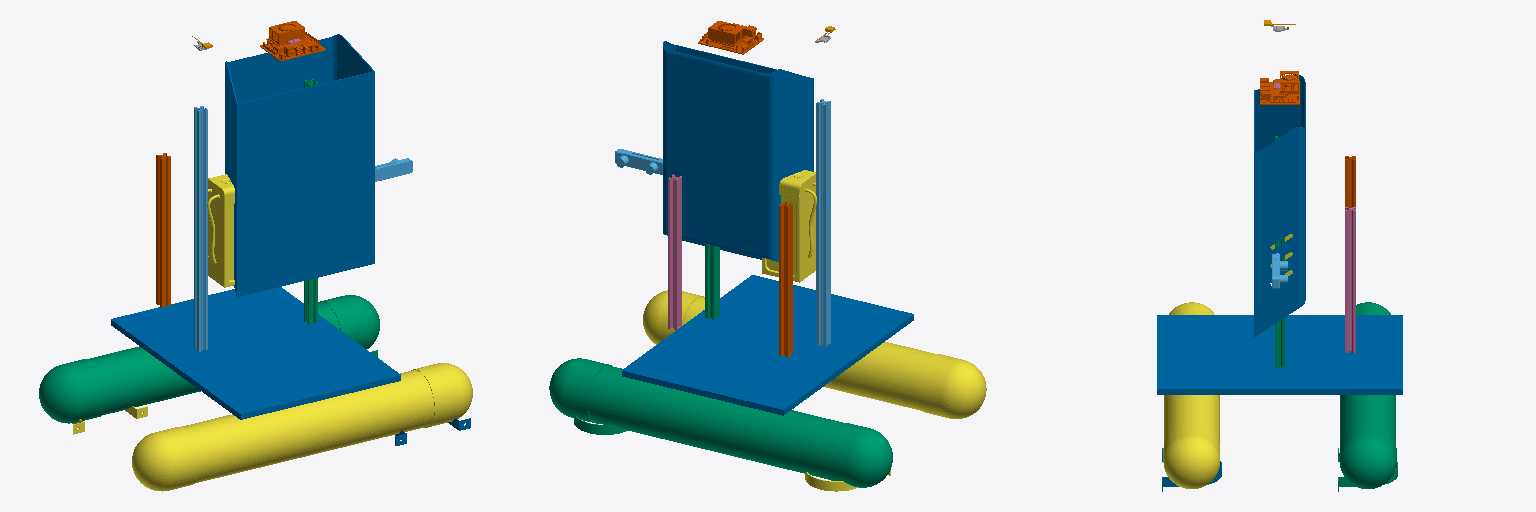
The robot description file, URDF, robot "asv_station_keeping_diag":
<?xml version='1.0' encoding='utf-8'?>
<robot name="asv_station_keeping_diag">
  <!-- Mesh-loading test only. Mounting poses are estimates, not Fusion occurrence transforms. 00_base has no visuals. -->
  <link name="base_footprint" />
  <link name="base_link">
    <inertial>
      <origin xyz="0 0 0" rpy="0 0 0" />
      <mass value="0.1" />
      <inertia ixx="0.0001" ixy="0" ixz="0" iyy="0.0001" iyz="0" izz="0.0001" />
    </inertial>
  </link>
  <link name="hull_left">
    <inertial>
      <origin xyz="0.0017543 -0.0000047 -0.0000010" rpy="0 0 0" />
      <mass value="8.7513272838" />
      <inertia ixx="0.0159438897" ixy="0" ixz="0" iyy="0.7485544942" iyz="0" izz="0.7485544942" />
    </inertial>
    <visual name="hull_left_visual">
      <origin xyz="-0.971730 0.357754 -1.641617" rpy="0 0 -1.57079632679" />
      <geometry>
        <mesh filename="package://asv_station_keeping/meshes/hull.stl" scale="0.001 0.001 0.001" />
      </geometry>
    </visual>
    <collision name="hull_left_collision">
      <geometry>
        <box size="0.724805 0.112973 0.112998" />
      </geometry>
    </collision>
  </link>
  <link name="hull_right">
    <inertial>
      <origin xyz="0.0017543 -0.0000047 -0.0000010" rpy="0 0 0" />
      <mass value="8.7513272838" />
      <inertia ixx="0.0159438897" ixy="0" ixz="0" iyy="0.7485544942" iyz="0" izz="0.7485544942" />
    </inertial>
    <visual name="hull_right_visual">
      <origin xyz="-0.971730 0.357754 -1.641617" rpy="0 0 -1.57079632679" />
      <geometry>
        <mesh filename="package://asv_station_keeping/meshes/hull.stl" scale="0.001 0.001 0.001" />
      </geometry>
    </visual>
    <collision name="hull_right_collision">
      <geometry>
        <box size="0.724805 0.112973 0.112998" />
      </geometry>
    </collision>
  </link>
  <link name="base_deck">
    <inertial>
      <origin xyz="0 0 0" rpy="0 0 0" />
      <mass value="16.1553" />
      <inertia ixx="0.3234344911" ixy="0" ixz="0" iyy="0.1651125511" iyz="0" izz="0.4881593150" />
    </inertial>
    <visual name="base_deck_visual">
      <origin xyz="-0.142254 -0.216347 -0.006000" rpy="1.57079632679 0 0" />
      <geometry>
        <mesh filename="package://asv_station_keeping/meshes/base_deck.stl" scale="0.001 0.001 0.001" />
      </geometry>
    </visual>
    <collision name="base_deck_collision">
      <geometry>
        <box size="0.350 0.490 0.012" />
      </geometry>
    </collision>
  </link>
  <link name="frame1_left">
    <inertial>
      <origin xyz="0 0 0" />
      <mass value="0.41469714" />
      <inertia ixx="0.00333785" ixy="0" ixz="0" iyy="0.00333785" iyz="0" izz="0.0000336422" />
    </inertial>
    <visual>
      <geometry>
        <mesh filename="package://asv_station_keeping/meshes/frame1.stl" scale="0.001 0.001 0.001" />
      </geometry>
    </visual>
    <collision>
      <geometry>
        <cylinder radius="0.010" length="0.310" />
      </geometry>
    </collision>
  </link>
  <link name="frame1_right">
    <inertial>
      <origin xyz="0 0 0" />
      <mass value="0.41469714" />
      <inertia ixx="0.00333785" ixy="0" ixz="0" iyy="0.00333785" iyz="0" izz="0.0000336422" />
    </inertial>
    <visual>
      <geometry>
        <mesh filename="package://asv_station_keeping/meshes/frame1.stl" scale="0.001 0.001 0.001" />
      </geometry>
    </visual>
    <collision>
      <geometry>
        <cylinder radius="0.010" length="0.310" />
      </geometry>
    </collision>
  </link>
  <link name="frame2_left">
    <inertial>
      <origin xyz="0 0 0" />
      <mass value="0.66886635" />
      <inertia ixx="0.01396185" ixy="0" ixz="0" iyy="0.01396185" iyz="0" izz="0.000054262" />
    </inertial>
    <visual>
      <geometry>
        <mesh filename="package://asv_station_keeping/meshes/frame2.stl" scale="0.001 0.001 0.001" />
      </geometry>
    </visual>
    <collision>
      <geometry>
        <cylinder radius="0.010" length="0.500" />
      </geometry>
    </collision>
  </link>
  <link name="frame2_right">
    <inertial>
      <origin xyz="0 0 0" />
      <mass value="0.66886635" />
      <inertia ixx="0.01396185" ixy="0" ixz="0" iyy="0.01396185" iyz="0" izz="0.000054262" />
    </inertial>
    <visual>
      <geometry>
        <mesh filename="package://asv_station_keeping/meshes/frame2.stl" scale="0.001 0.001 0.001" />
      </geometry>
    </visual>
    <collision>
      <geometry>
        <cylinder radius="0.010" length="0.500" />
      </geometry>
    </collision>
  </link>
  <link name="frame3_left">
    <inertial>
      <origin xyz="0 0 0" />
      <mass value="0.66886635" />
      <inertia ixx="0.01396185" ixy="0" ixz="0" iyy="0.01396185" iyz="0" izz="0.000054262" />
    </inertial>
    <visual>
      <geometry>
        <mesh filename="package://asv_station_keeping/meshes/frame3.stl" scale="0.001 0.001 0.001" />
      </geometry>
    </visual>
    <collision>
      <geometry>
        <cylinder radius="0.010" length="0.500" />
      </geometry>
    </collision>
  </link>
  <link name="frame3_right">
    <inertial>
      <origin xyz="0 0 0" />
      <mass value="0.66886635" />
      <inertia ixx="0.01396185" ixy="0" ixz="0" iyy="0.01396185" iyz="0" izz="0.000054262" />
    </inertial>
    <visual>
      <geometry>
        <mesh filename="package://asv_station_keeping/meshes/frame3.stl" scale="0.001 0.001 0.001" />
      </geometry>
    </visual>
    <collision>
      <geometry>
        <cylinder radius="0.010" length="0.500" />
      </geometry>
    </collision>
  </link>
  <link name="battery">
    <inertial>
      <origin xyz="0.011821 0 0.000846" />
      <mass value="8.29420474" />
      <inertia ixx="0.0317350" ixy="0" ixz="0.0000687" iyy="0.0339037" iyz="0" izz="0.00778636" />
    </inertial>
    <visual>
      <origin xyz="0.012244 -0.035000 -0.000150" />
      <geometry>
        <mesh filename="package://asv_station_keeping/meshes/battery.stl" scale="0.001 0.001 0.001" />
      </geometry>
    </visual>
    <collision>
      <geometry>
        <box size="0.109 0.070 0.202" />
      </geometry>
    </collision>
  </link>
  <link name="electronics">
    <inertial>
      <origin xyz="0 -0.005565 -0.000224" />
      <mass value="4.50915118" />
      <inertia ixx="0.0697094" ixy="0" ixz="0" iyy="0.1035140" iyz="-0.00452282" izz="0.0519051" />
    </inertial>
    <visual>
      <origin xyz="0 -0.051000 -0.023578" />
      <geometry>
        <mesh filename="package://asv_station_keeping/meshes/electronics.stl" scale="0.001 0.001 0.001" />
      </geometry>
    </visual>
    <collision>
      <geometry>
        <box size="0.300 0.102 0.447" />
      </geometry>
    </collision>
  </link>
  <link name="jetson_nano">
    <inertial>
      <origin xyz="-0.001623 0.002547 -0.004382" />
      <mass value="0.55767391" />
      <inertia ixx="0.00033845" ixy="0.000000893" ixz="0.00000257" iyy="0.00033690" iyz="-0.00004065" izz="0.00056875" />
    </inertial>
    <visual>
      <origin xyz="-0.004000 -0.007385 -0.025097" />
      <geometry>
        <mesh filename="package://asv_station_keeping/meshes/Jetson-Nano.stl" scale="0.001 0.001 0.001" />
      </geometry>
    </visual>
    <collision>
      <geometry>
        <box size="0.100 0.080 0.040" />
      </geometry>
    </collision>
  </link>
  <link name="imu_link">
    <inertial>
      <origin xyz="-0.00000256 0.00000402 0" />
      <mass value="0.00700317" />
      <inertia ixx="0.0000002895" ixy="0.000000000021" ixz="0" iyy="0.0000003634" iyz="0" izz="0.0000006497" />
    </inertial>
    <visual>
      <geometry>
        <mesh filename="package://asv_station_keeping/meshes/imu_Adafruit-BNO085-STEMMA-QT.step_Printed-Circuit-Board.step.stl" scale="0.001 0.001 0.001" />
      </geometry>
    </visual>
    <collision>
      <geometry>
        <box size="0.0254 0.0229 0.00165" />
      </geometry>
    </collision>
  </link>
  <link name="gps">
    <inertial>
      <origin xyz="0.000722 -0.000920 -0.001504" />
      <mass value="0.0120864" />
      <inertia ixx="0.0000007935" ixy="-0.0000001189" ixz="-0.0000000123" iyy="0.0000003115" iyz="-0.0000000289" izz="0.0000010352" />
    </inertial>
    <visual>
      <origin xyz="0.477241 -0.271714 -0.058863" />
      <geometry>
        <mesh filename="package://asv_station_keeping/meshes/gps.stl" scale="0.001 0.001 0.001" />
      </geometry>
    </visual>
    <collision>
      <geometry>
        <box size="0.018 0.038 0.010" />
      </geometry>
    </collision>
  </link>
  <link name="gps_antenna">
    <inertial>
      <origin xyz="0 -0.023073 0.000028" />
      <mass value="0.00977979" />
      <inertia ixx="0.0000006570" ixy="0" ixz="0" iyy="0.0000001906" iyz="0.0000000297" izz="0.0000007948" />
    </inertial>
    <visual>
      <origin xyz="0 -0.024375 -0.002900" />
      <geometry>
        <mesh filename="package://asv_station_keeping/meshes/gps_antenna.stl" scale="0.001 0.001 0.001" />
      </geometry>
    </visual>
    <collision>
      <geometry>
        <box size="0.015 0.064 0.006" />
      </geometry>
    </collision>
  </link>
  <link name="zed_camera">
    <inertial>
      <origin xyz="0.001495 -0.005480 -0.000004" />
      <mass value="0.43618915" />
      <inertia ixx="0.00004355" ixy="-0.00000770" ixz="0.000000005" iyy="0.00057262" iyz="0.000000007" izz="0.00057177" />
    </inertial>
    <visual>
      <origin xyz="0.002250 -0.015125 -0.000012" />
      <geometry>
        <mesh filename="package://asv_station_keeping/meshes/zed_camera.stl" scale="0.001 0.001 0.001" />
      </geometry>
    </visual>
    <collision>
      <geometry>
        <box size="0.125 0.030 0.027" />
      </geometry>
    </collision>
  </link>
  <link name="clamp_left_front">
    <inertial>
      <origin xyz="0 0.001988 0" />
      <mass value="0.10948492" />
      <inertia ixx="0.00019881" ixy="0" ixz="0" iyy="0.00029460" iyz="0" izz="0.00048607" />
    </inertial>
    <visual>
      <origin xyz="-0.039825 -0.046506 -0.010000" />
      <geometry>
        <mesh filename="package://asv_station_keeping/meshes/clamp.stl" scale="0.001 0.001 0.001" />
      </geometry>
    </visual>
    <collision>
      <geometry>
        <box size="0.163 0.120 0.020" />
      </geometry>
    </collision>
  </link>
  <link name="clamp_left_rear">
    <inertial>
      <origin xyz="0 0.001988 0" />
      <mass value="0.10948492" />
      <inertia ixx="0.00019881" ixy="0" ixz="0" iyy="0.00029460" iyz="0" izz="0.00048607" />
    </inertial>
    <visual>
      <origin xyz="-0.039825 -0.046506 -0.010000" />
      <geometry>
        <mesh filename="package://asv_station_keeping/meshes/clamp.stl" scale="0.001 0.001 0.001" />
      </geometry>
    </visual>
    <collision>
      <geometry>
        <box size="0.163 0.120 0.020" />
      </geometry>
    </collision>
  </link>
  <link name="clamp_right_front">
    <inertial>
      <origin xyz="0 0.001988 0" />
      <mass value="0.10948492" />
      <inertia ixx="0.00019881" ixy="0" ixz="0" iyy="0.00029460" iyz="0" izz="0.00048607" />
    </inertial>
    <visual>
      <origin xyz="-0.039825 -0.046506 -0.010000" />
      <geometry>
        <mesh filename="package://asv_station_keeping/meshes/clamp.stl" scale="0.001 0.001 0.001" />
      </geometry>
    </visual>
    <collision>
      <geometry>
        <box size="0.163 0.120 0.020" />
      </geometry>
    </collision>
  </link>
  <joint name="base_footprint_to_base_link" type="fixed">
    <parent link="base_footprint" />
    <child link="base_link" />
    <origin xyz="0 0 0" rpy="0 0 0" />
  </joint>
  <joint name="base_to_hull_left" type="fixed">
    <parent link="base_link" />
    <child link="hull_left" />
    <origin xyz="0 0.175 0.055" rpy="0 0 0" />
  </joint>
  <joint name="base_to_hull_right" type="fixed">
    <parent link="base_link" />
    <child link="hull_right" />
    <origin xyz="0 -0.175 0.055" rpy="0 0 0" />
  </joint>
  <joint name="base_to_base_deck" type="fixed">
    <parent link="base_link" />
    <child link="base_deck" />
    <origin xyz="0 0 0.145" rpy="0 0 0" />
  </joint>
  <joint name="deck_to_frame1_left" type="fixed">
    <parent link="base_deck" />
    <child link="frame1_left" />
    <origin xyz="-0.12 0.14 0.22" />
  </joint>
  <joint name="deck_to_frame1_right" type="fixed">
    <parent link="base_deck" />
    <child link="frame1_right" />
    <origin xyz="0.12 0.14 0.22" />
  </joint>
  <joint name="deck_to_frame2_left" type="fixed">
    <parent link="base_deck" />
    <child link="frame2_left" />
    <origin xyz="-0.12 -0.14 0.28" />
  </joint>
  <joint name="deck_to_frame2_right" type="fixed">
    <parent link="base_deck" />
    <child link="frame2_right" />
    <origin xyz="0.12 -0.14 0.28" />
  </joint>
  <joint name="deck_to_frame3_left" type="fixed">
    <parent link="base_deck" />
    <child link="frame3_left" />
    <origin xyz="-0.12 0 0.28" />
  </joint>
  <joint name="deck_to_frame3_right" type="fixed">
    <parent link="base_deck" />
    <child link="frame3_right" />
    <origin xyz="0.12 0 0.28" />
  </joint>
  <joint name="deck_to_battery" type="fixed">
    <parent link="base_deck" />
    <child link="battery" />
    <origin xyz="-0.06 0 0.265" />
  </joint>
  <joint name="deck_to_electronics" type="fixed">
    <parent link="base_deck" />
    <child link="electronics" />
    <origin xyz="0.08 0 0.370" />
  </joint>
  <joint name="electronics_to_jetson" type="fixed">
    <parent link="electronics" />
    <child link="jetson_nano" />
    <origin xyz="0 0 0.255" />
  </joint>
  <joint name="electronics_to_imu" type="fixed">
    <parent link="electronics" />
    <child link="imu_link" />
    <origin xyz="0 0 0.255" />
  </joint>
  <joint name="deck_to_gps" type="fixed">
    <parent link="base_deck" />
    <child link="gps" />
    <origin xyz="-0.12 0 0.66" />
  </joint>
  <joint name="gps_to_antenna" type="fixed">
    <parent link="gps" />
    <child link="gps_antenna" />
    <origin xyz="0 0 0.010" />
  </joint>
  <joint name="deck_to_zed_camera" type="fixed">
    <parent link="base_deck" />
    <child link="zed_camera" />
    <origin xyz="0.27 0 0.31" rpy="0 0 0" />
  </joint>
  <joint name="hull_left_to_clamp_front" type="fixed">
    <parent link="hull_left" />
    <child link="clamp_left_front" />
    <origin xyz="0.25 0 -0.045" />
  </joint>
  <joint name="hull_left_to_clamp_rear" type="fixed">
    <parent link="hull_left" />
    <child link="clamp_left_rear" />
    <origin xyz="-0.25 0 -0.045" />
  </joint>
  <joint name="hull_right_to_clamp_front" type="fixed">
    <parent link="hull_right" />
    <child link="clamp_right_front" />
    <origin xyz="0.25 0 -0.045" />
  </joint>
</robot>

--- Facts derived from the render (not from the file) ---
Views: 3 orthographic renders of the robot side by side, from view 1: azimuth 30°, elevation 25°; view 2: azimuth 150°, elevation 25°; view 3: azimuth 270°, elevation 25°.
Model asv_station_keeping_diag with 21 links and 20 joints (20 fixed), rooted at base_footprint, posed all joints at 0.
Links seen in each view (by area): view 1: electronics, base_deck, hull_right, hull_left, frame3_left, battery, frame1_left, jetson_nano, frame3_right, zed_camera; view 2: electronics, base_deck, hull_left, hull_right, frame3_left, battery, frame1_left, frame1_right, jetson_nano, frame3_right, zed_camera; view 3: base_deck, electronics, hull_right, hull_left, frame1_right, jetson_nano, frame1_left, frame3_right.
Link boxes in pixels (x1,y1,x2,y2): electronics: [225, 34, 374, 296]; base_deck: [111, 287, 400, 419]; hull_right: [132, 363, 472, 491]; hull_left: [39, 295, 379, 423]; frame3_left: [194, 106, 207, 351]; battery: [207, 174, 234, 287]; frame1_left: [156, 153, 170, 307]; jetson_nano: [260, 21, 325, 60]; frame3_right: [304, 79, 317, 324]; zed_camera: [375, 158, 412, 181]; electronics: [663, 41, 813, 261]; base_deck: [622, 275, 913, 415]; hull_left: [549, 358, 892, 487]; hull_right: [643, 290, 986, 418]; frame3_left: [816, 99, 830, 346]; battery: [762, 170, 816, 282]; frame1_left: [779, 202, 792, 357]; frame1_right: [668, 174, 681, 330]; jetson_nano: [698, 21, 763, 54]; frame3_right: [705, 244, 719, 319]; zed_camera: [615, 149, 662, 174]; base_deck: [1157, 315, 1402, 394]; electronics: [1254, 75, 1305, 336]; hull_right: [1163, 302, 1219, 488]; hull_left: [1340, 302, 1396, 488]; frame1_right: [1345, 207, 1355, 352]; jetson_nano: [1260, 71, 1299, 104]; frame1_left: [1345, 156, 1355, 207]; frame3_right: [1275, 136, 1284, 368].
Size in the robot's own frame: 0.7248 by 0.49 by 0.8194 metres.
17 mesh visuals loaded from 13 distinct referenced files (12 binary STL); not drawn: 2 (reference not matched to a file when rendering).
